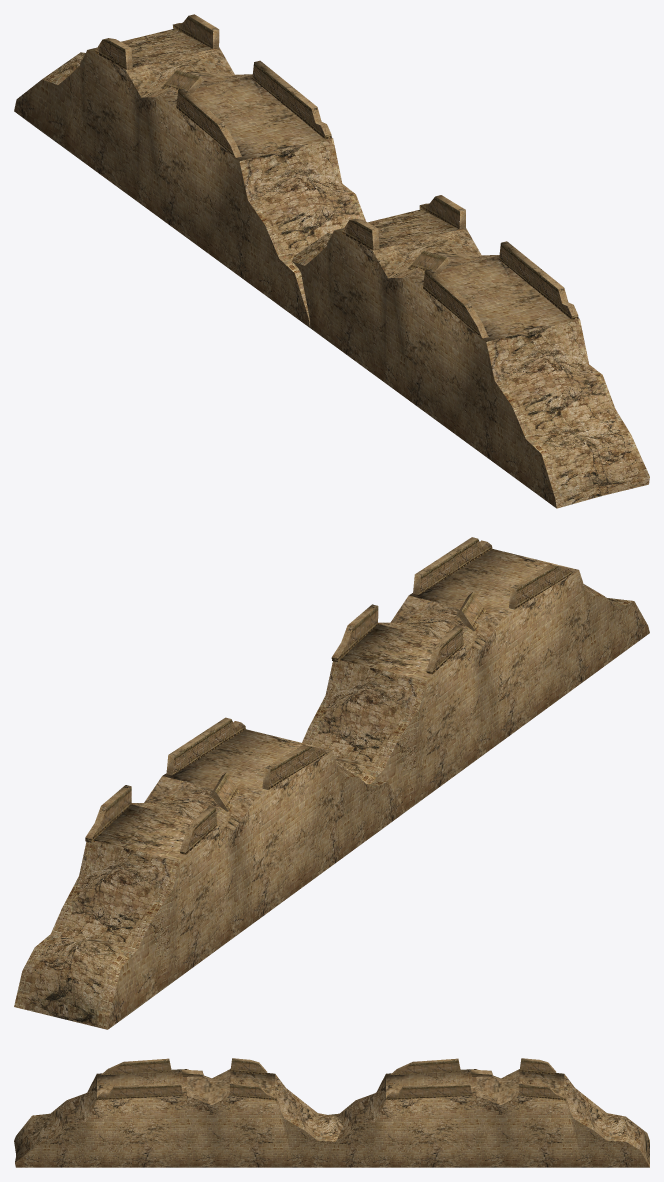
Rendered from w_cd_castle_wall01.glb.
3 renders of one model, top to bottom at view 1: azimuth 30°, elevation 25°; view 2: azimuth 150°, elevation 25°; view 3: azimuth 270°, elevation 25°, orthographic. The views are drawn at different scales.
Visible parts, largest first — view 1: w_cd_castle_wall01 (×2); view 2: w_cd_castle_wall01 (×2); view 3: w_cd_castle_wall01 (×2).
Part boxes in pixels (bbox=[...]): w_cd_castle_wall01 (×2): bbox=[14, 14, 649, 508]; w_cd_castle_wall01 (×2): bbox=[14, 537, 649, 1029]; w_cd_castle_wall01 (×2): bbox=[14, 1058, 649, 1167].
Bounding box in the file's own units: 7.11 × 10.28 × 71.18.
3 materials, 3 textured.
